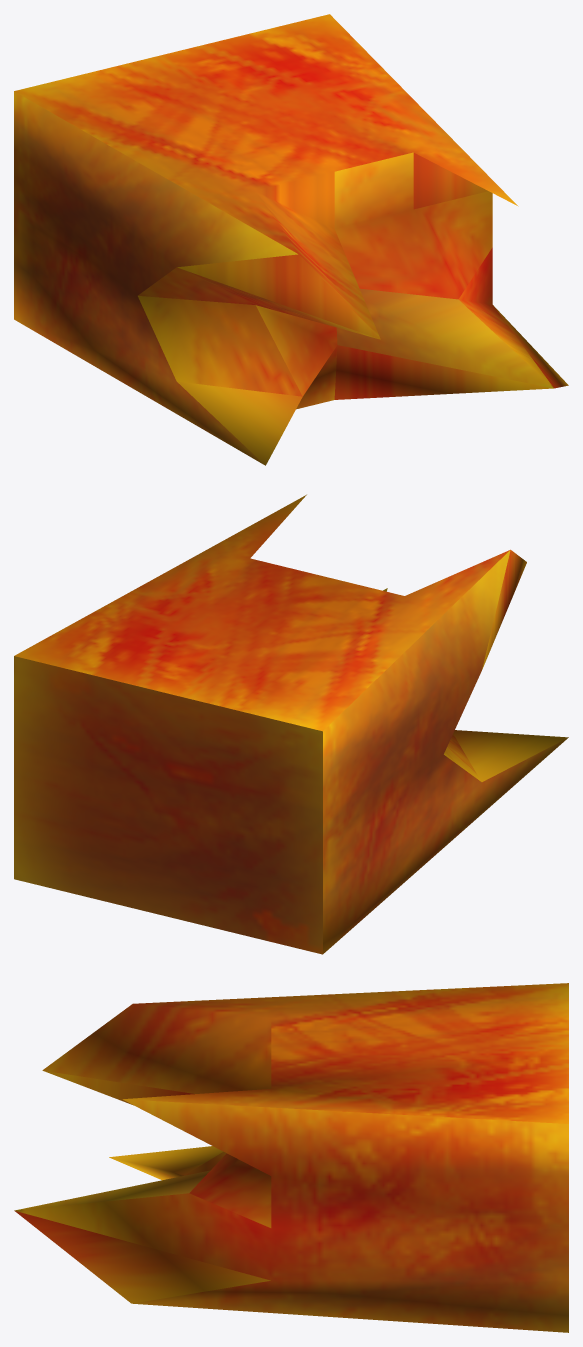
Rendered from fire_cube.fbx.
The picture shows the model from 3 angles, top to bottom: view 1: azimuth 30°, elevation 25°; view 2: azimuth 150°, elevation 25°; view 3: azimuth 270°, elevation 25°; orthographic projection. The views are drawn at different scales.
Visible parts, largest first — view 1: Box001; view 2: Box001; view 3: Box001.
Boxes of the visible parts, x1=… form: Box001: x1=14, y1=14, x2=568, y2=465; Box001: x1=14, y1=494, x2=568, y2=954; Box001: x1=14, y1=983, x2=568, y2=1332.
Bounding box in the file's own units: 79.2 × 54.7 × 132.
Materials: 1 (1 with a texture image).
